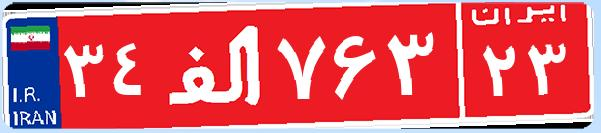2: (475, 38, 525, 113)
3: (385, 28, 445, 110), (57, 26, 110, 107), (525, 38, 570, 115)
4: (110, 28, 158, 105)
6: (330, 28, 385, 110)
7: (273, 28, 330, 110)
الف: (158, 15, 273, 115)
